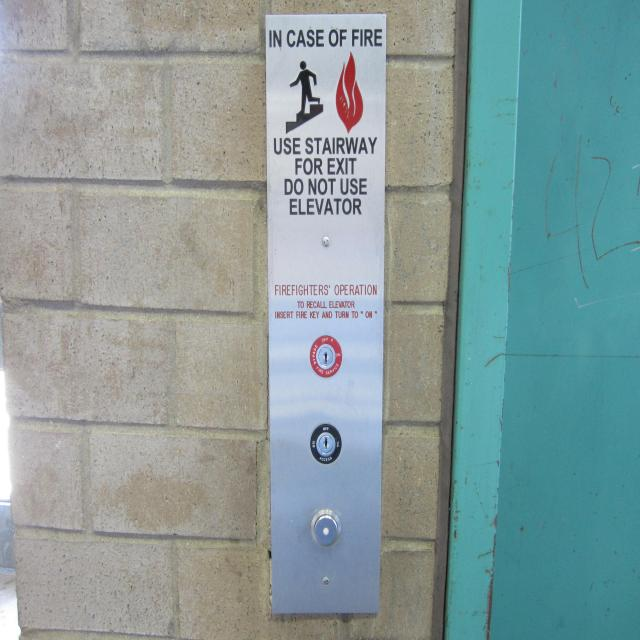empty: (308, 506, 343, 548)
keyhole: (308, 333, 344, 380), (308, 422, 342, 466)
